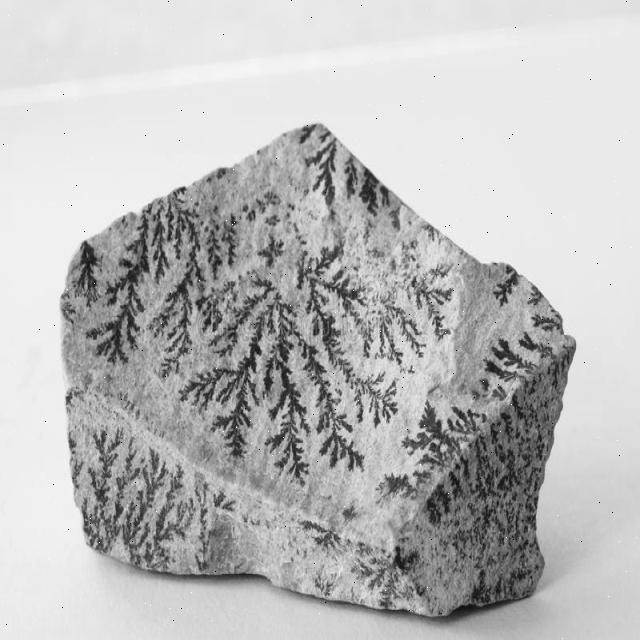Sedimentary: (62, 125, 570, 607)
